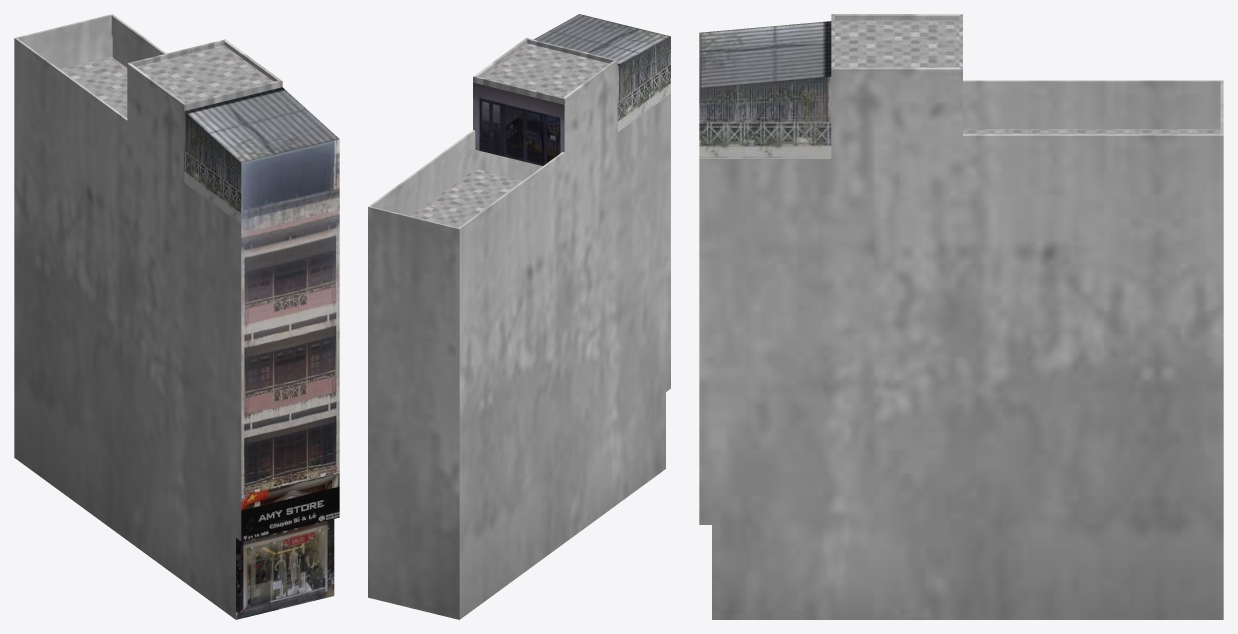
3 renders of one model, left to right at view 1: azimuth 30°, elevation 25°; view 2: azimuth 150°, elevation 25°; view 3: azimuth 270°, elevation 25°, orthographic. The views are drawn at different scales.
Parts seen in each view (by area): view 1: HN926_AmyStore; view 2: HN926_AmyStore; view 3: HN926_AmyStore.
Boxes of the visible parts, x1,y1,x2,y2 form: HN926_AmyStore: [14, 14, 339, 619]; HN926_AmyStore: [368, 14, 670, 619]; HN926_AmyStore: [699, 14, 1223, 619].
Bounding box in the file's own units: 5 × 23.19 × 20.
Materials: 1 (1 with a texture image).
